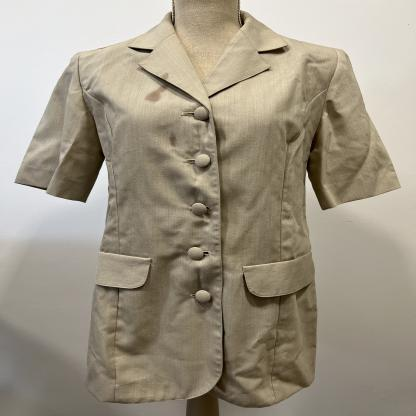stain: (142, 82, 173, 105), (165, 131, 181, 149), (158, 71, 171, 82)
